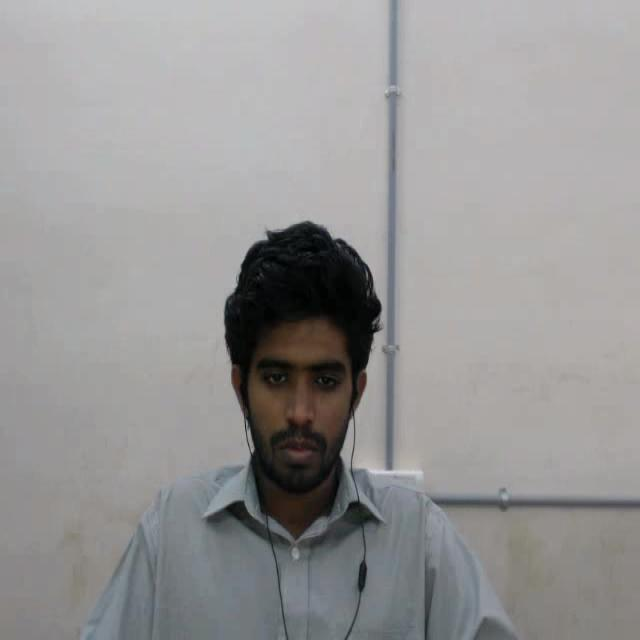Bored: (215, 196, 405, 554)
